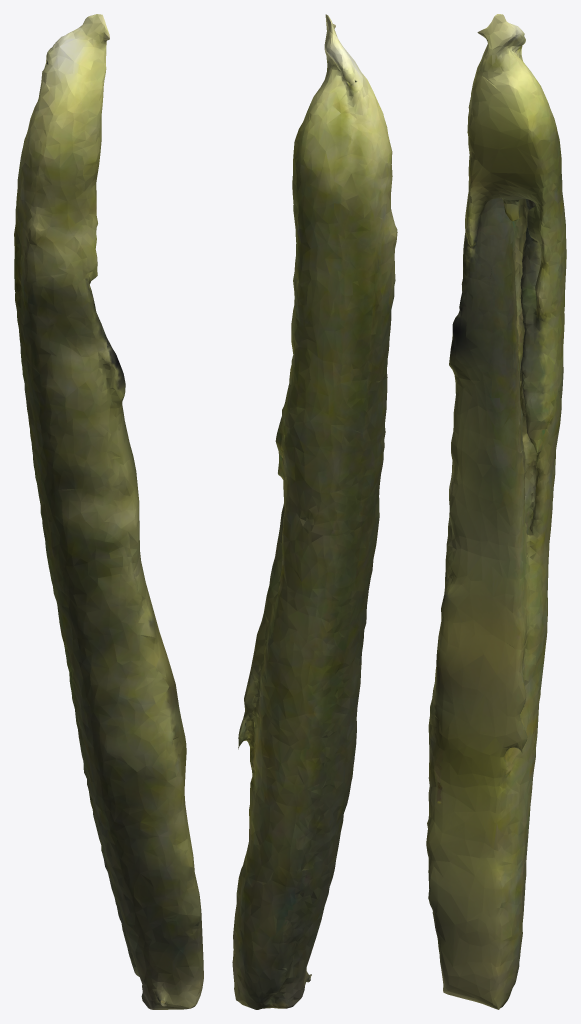
File: gruene_Bohne.fbx
3 renders of one model, left to right at view 1: azimuth 30°, elevation 25°; view 2: azimuth 150°, elevation 25°; view 3: azimuth 270°, elevation 25°, orthographic. The views are drawn at different scales.
Visible parts, largest first — view 1: gruene_Bohne_evtl_tex_high; view 2: gruene_Bohne_evtl_tex_high; view 3: gruene_Bohne_evtl_tex_high.
Boxes of the visible parts, bbox=[...] form: gruene_Bohne_evtl_tex_high: bbox=[14, 14, 203, 1009]; gruene_Bohne_evtl_tex_high: bbox=[232, 14, 397, 1009]; gruene_Bohne_evtl_tex_high: bbox=[426, 14, 566, 1009].
Size of the model in its own units: 1.7 by 9.93 by 1.32.
